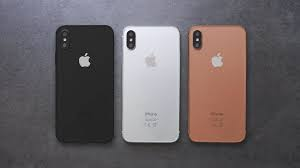iphone: (185, 22, 247, 143), (118, 23, 180, 144), (53, 23, 115, 144)
iphone10: (53, 23, 115, 144), (119, 23, 181, 144), (185, 24, 247, 145)
